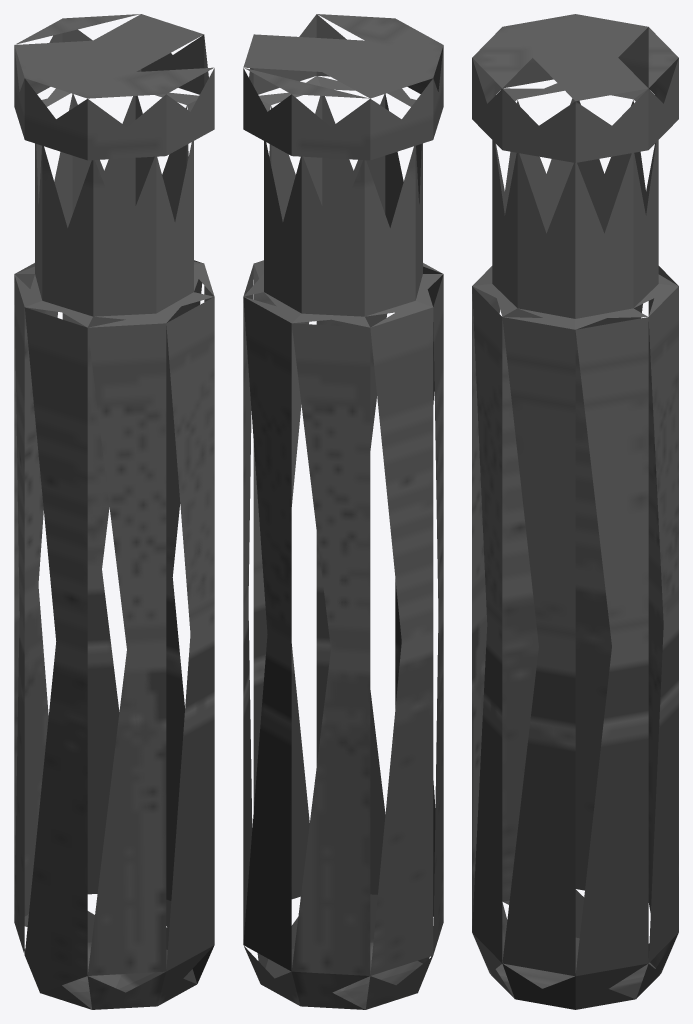
The model's file is RE2_ROOM60D0_m02_laborflasche.obj.
3 renders of one model, left to right at view 1: azimuth 30°, elevation 25°; view 2: azimuth 150°, elevation 25°; view 3: azimuth 270°, elevation 25°, orthographic.
Bounding box in the file's own units: 82 × 408 × 82.
1 material, 1 textured.
